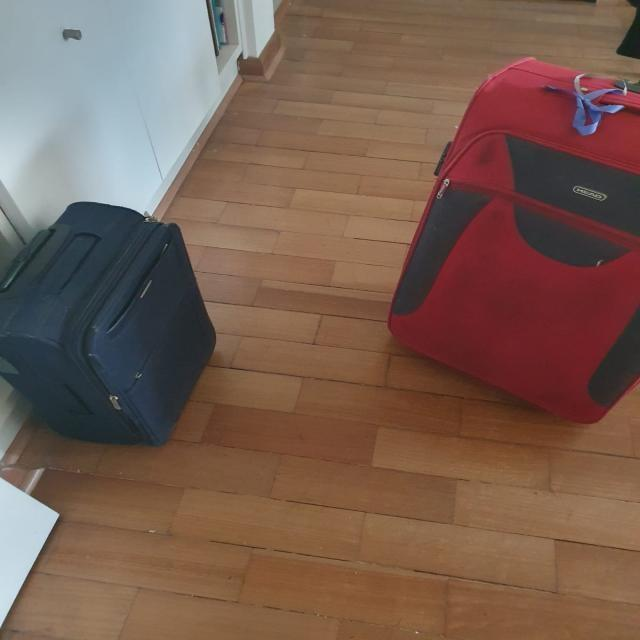Suitcase: (391, 54, 640, 429), (0, 198, 221, 449)
